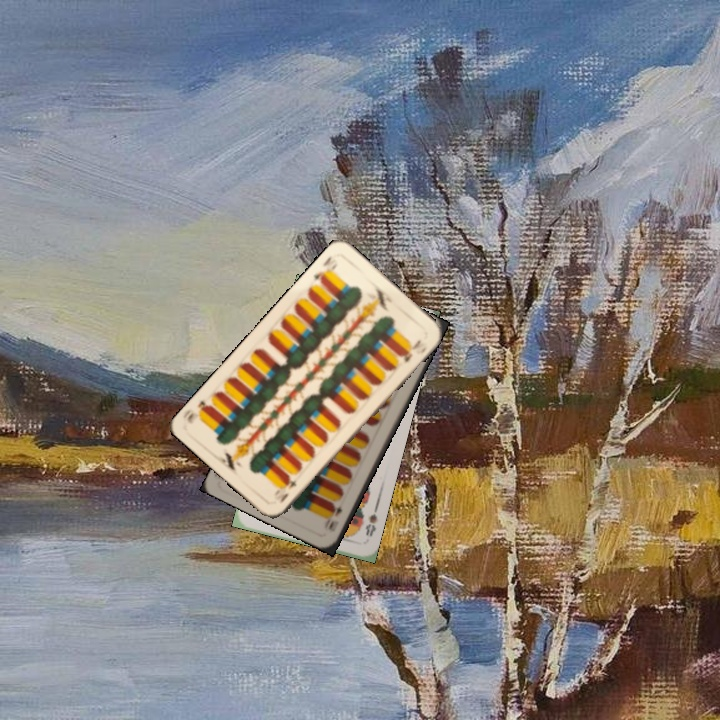E10: (309, 252, 340, 286), (276, 471, 301, 506), (324, 502, 345, 535)
S8: (361, 505, 380, 539)
